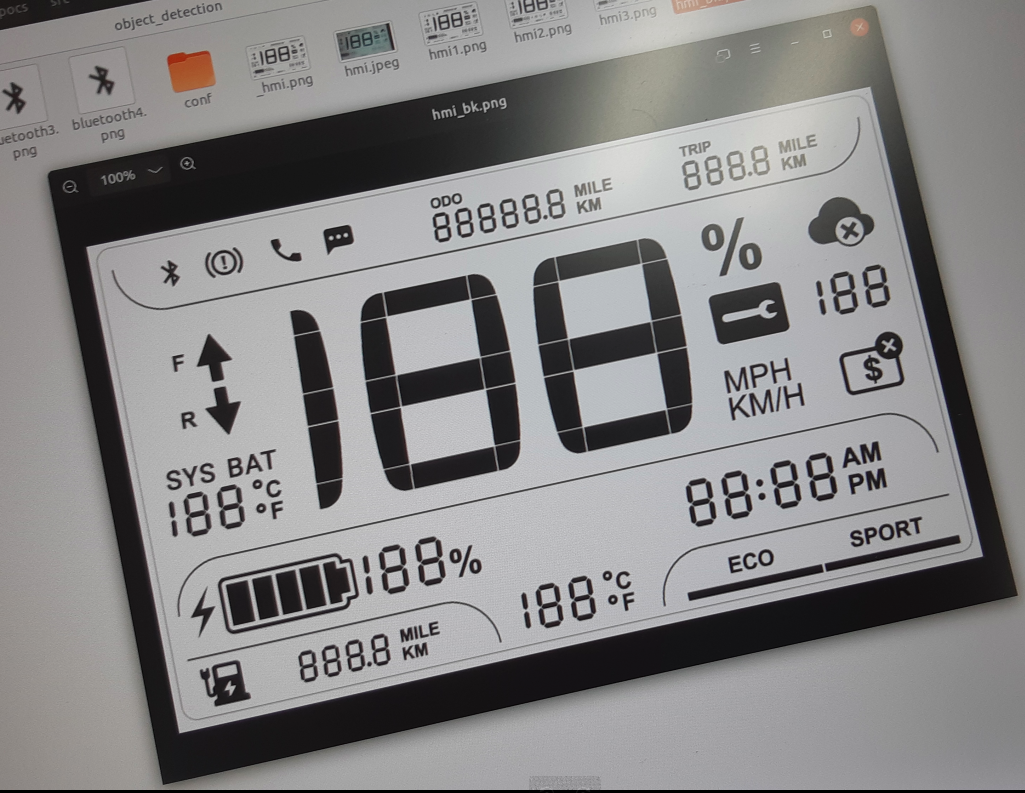bluetooth_on: (155, 255, 187, 290)
braking_on: (200, 244, 245, 282)
calling_on: (264, 232, 307, 267)
connection_lost: (804, 194, 879, 248)
error_code: (708, 280, 792, 347)
low_battery: (199, 659, 254, 709)
sms_on: (320, 221, 358, 261)
vin_id: (836, 330, 909, 396)
